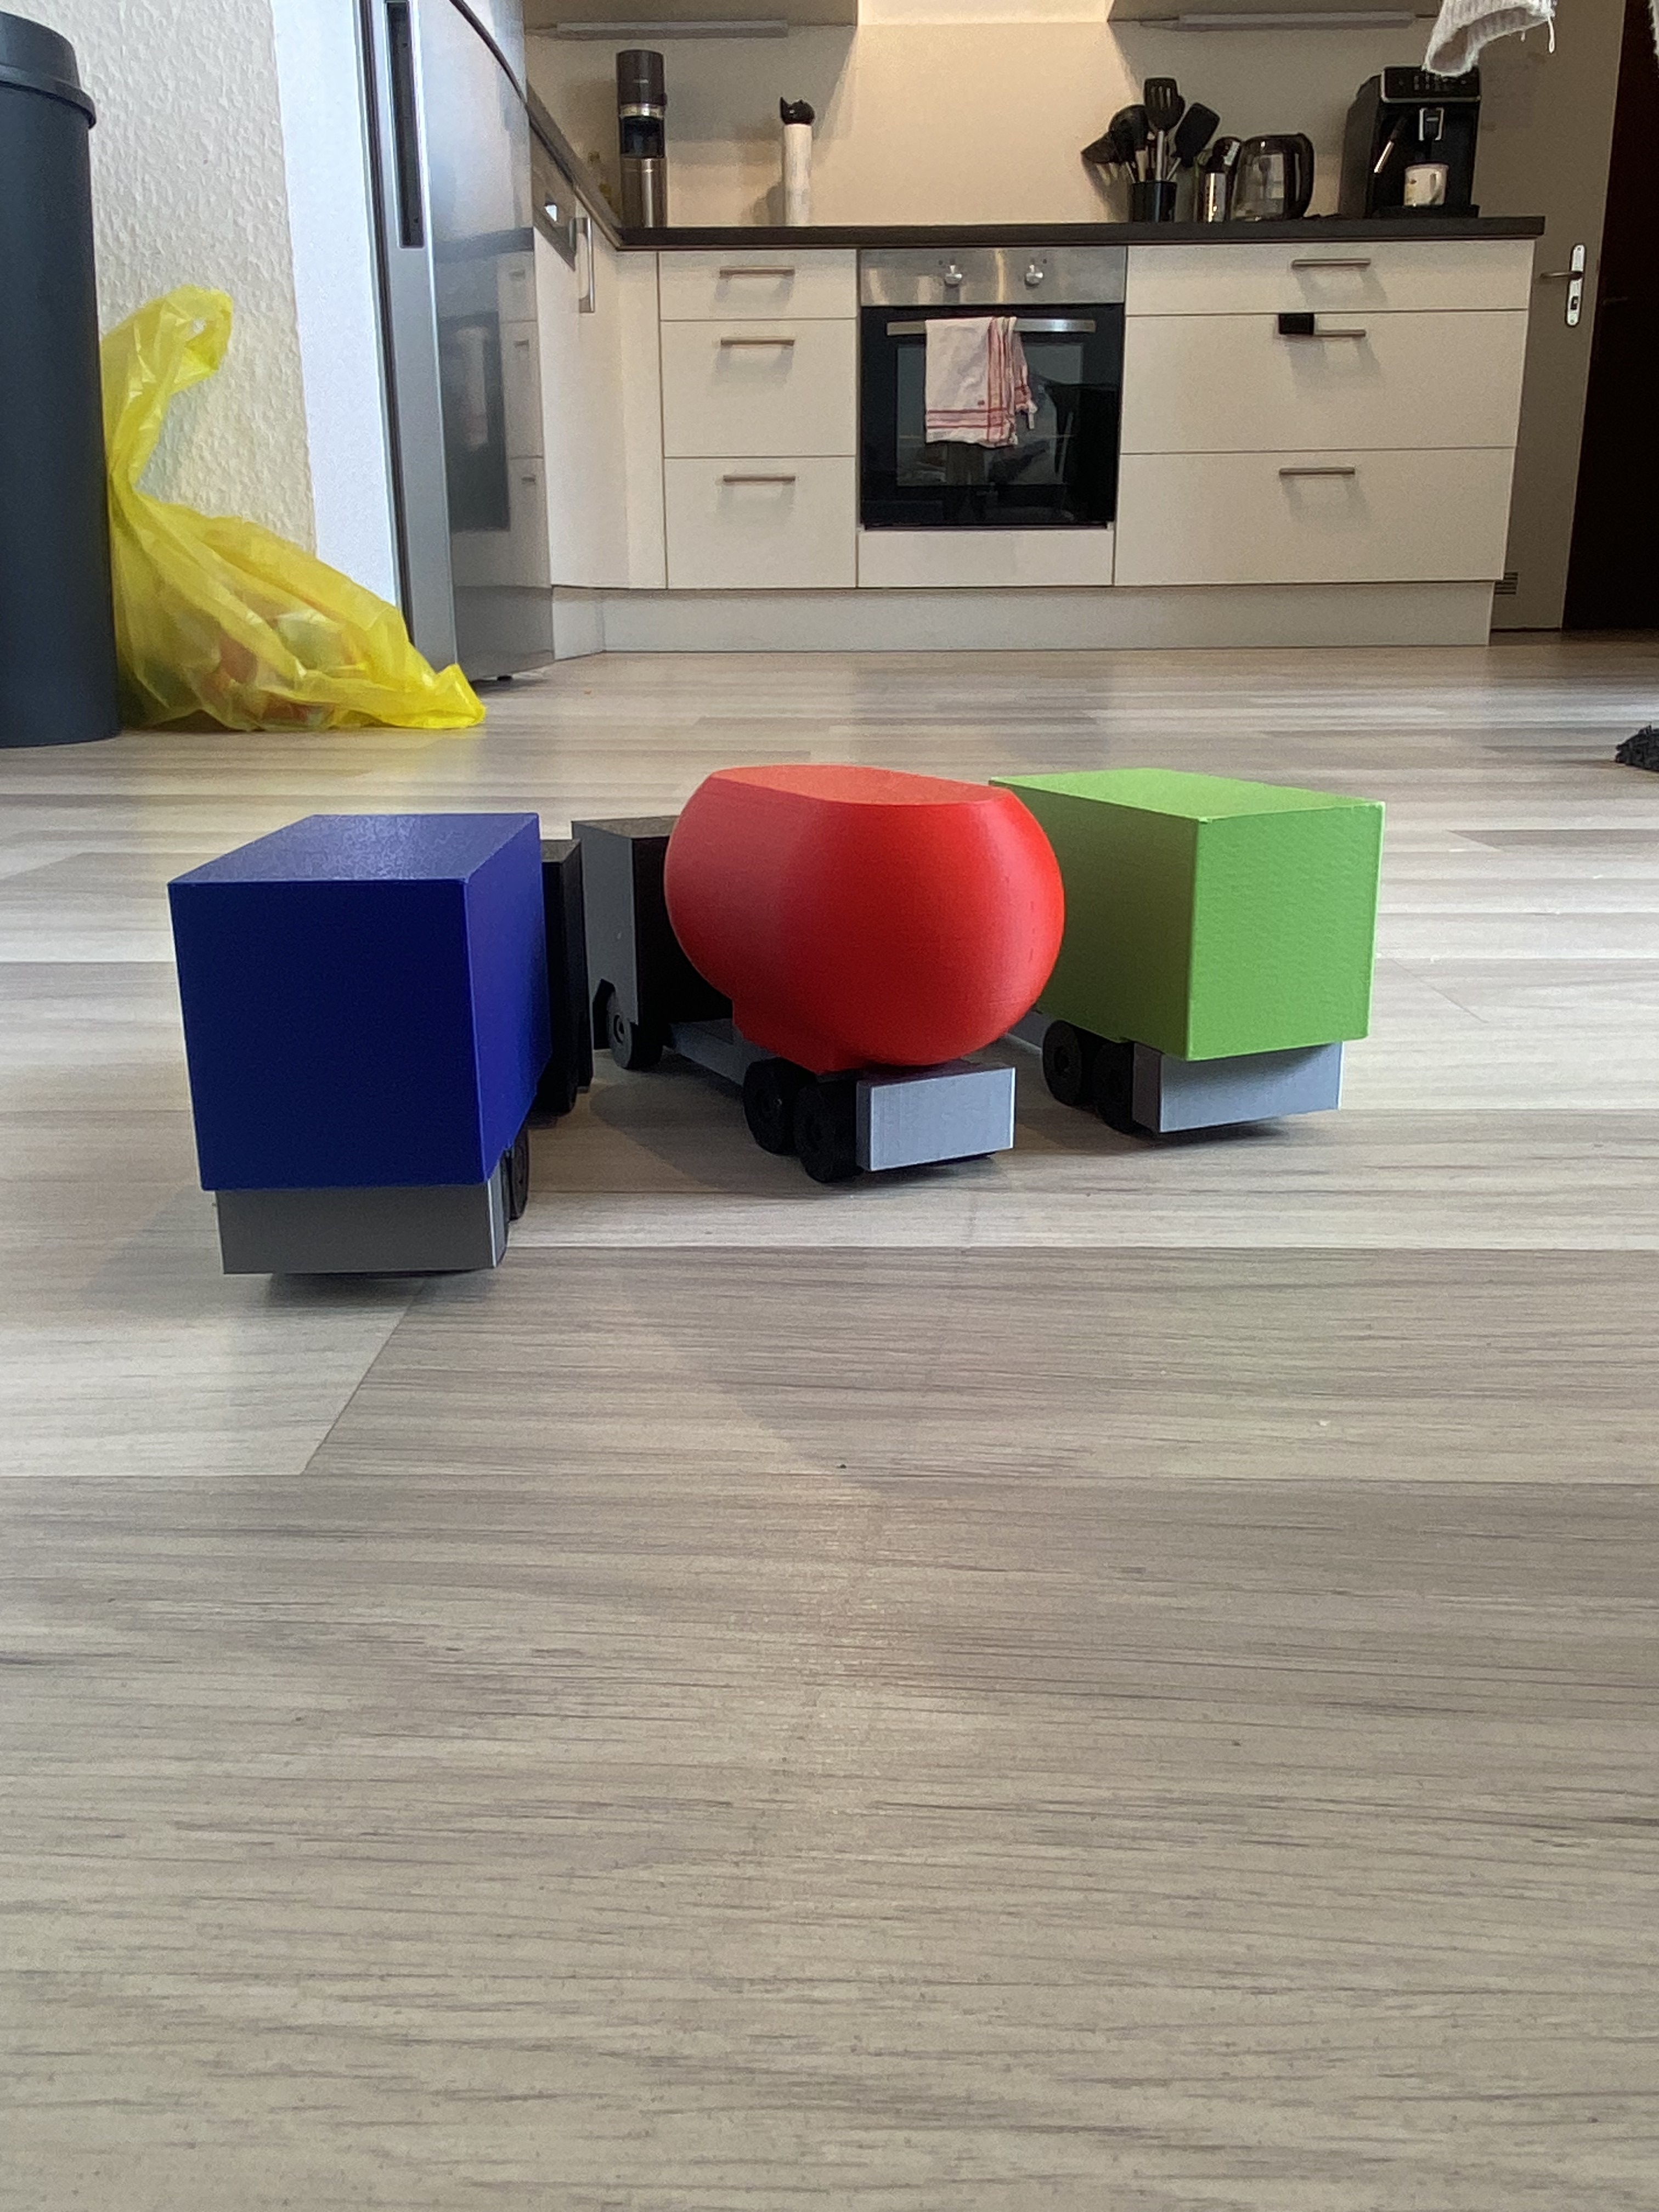blue_truck: (106, 831, 601, 1221)
green_truck: (1012, 759, 1375, 1148)
red_truck: (613, 732, 1040, 1228)
